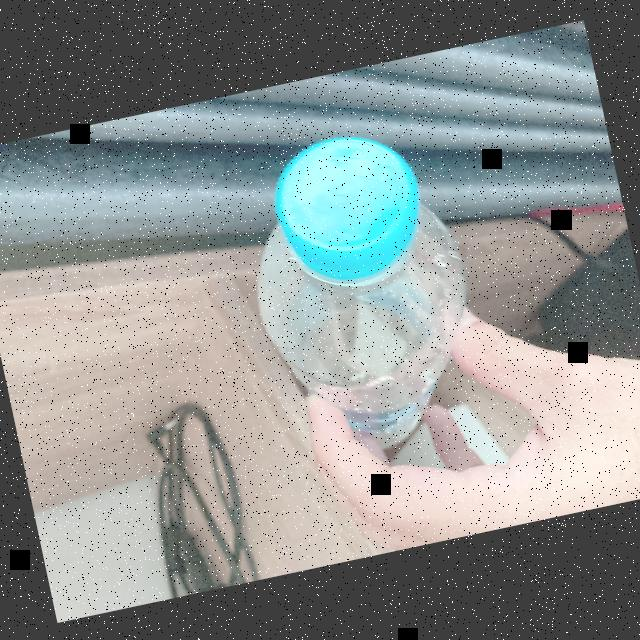plastic_bottle: (218, 110, 503, 478)
plastic_bottle_cap: (261, 119, 437, 296)
